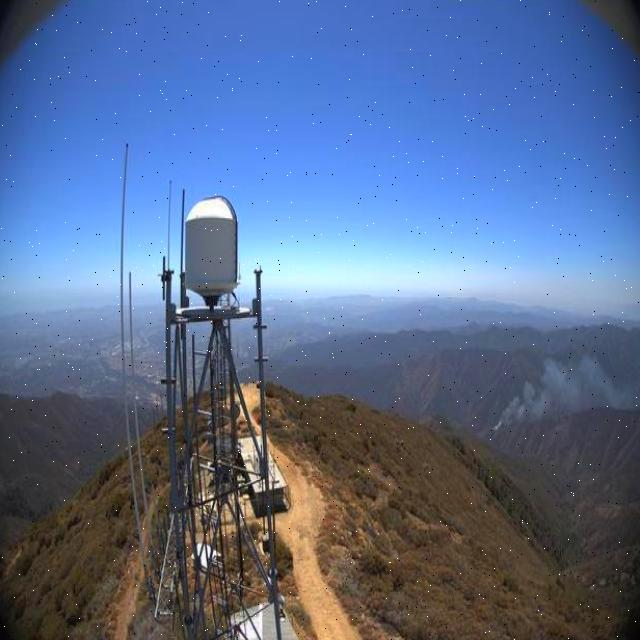smoke: (486, 344, 640, 444)
